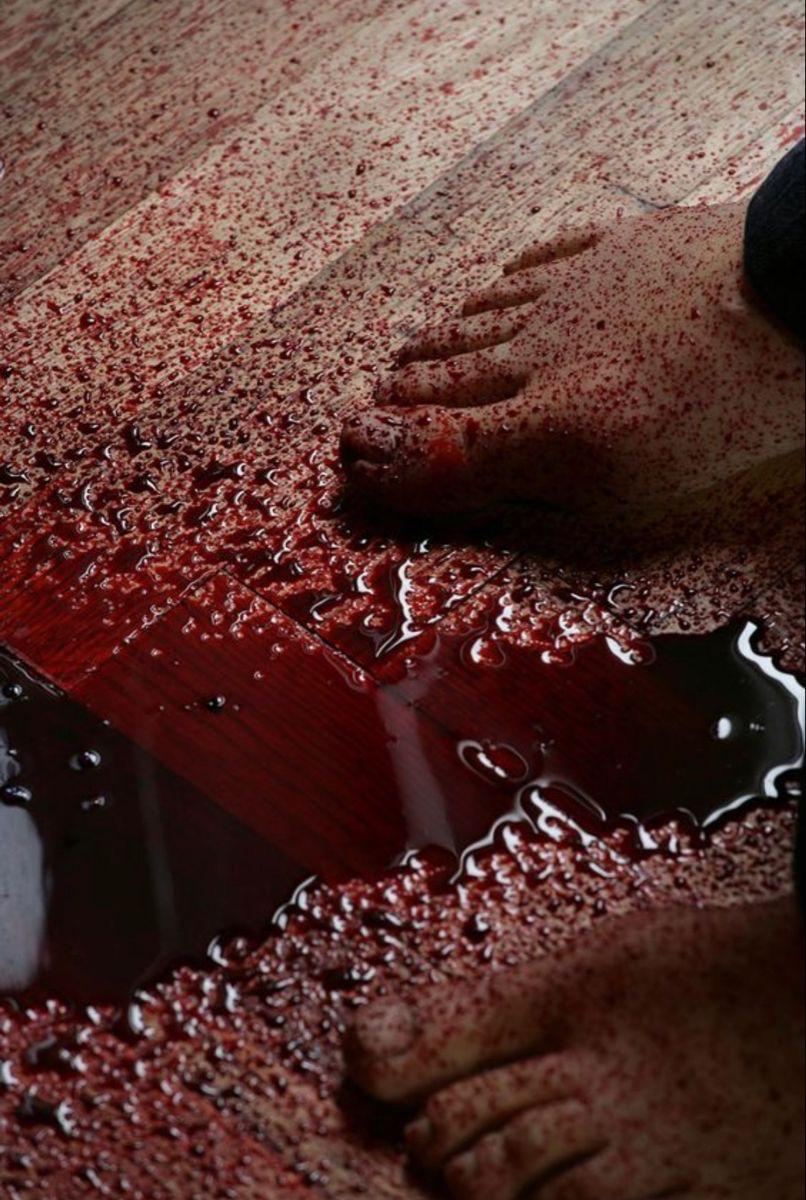blood_19.png: (7, 26, 806, 1195)
